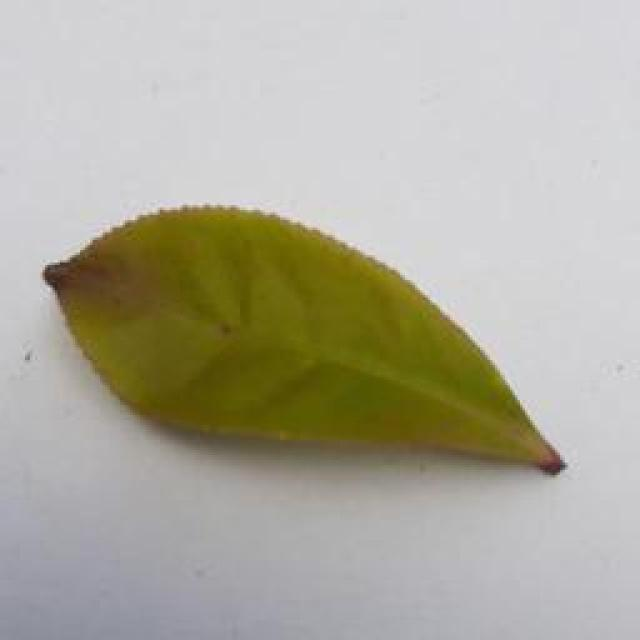Red Leaf Spot: (0, 202, 600, 478)
